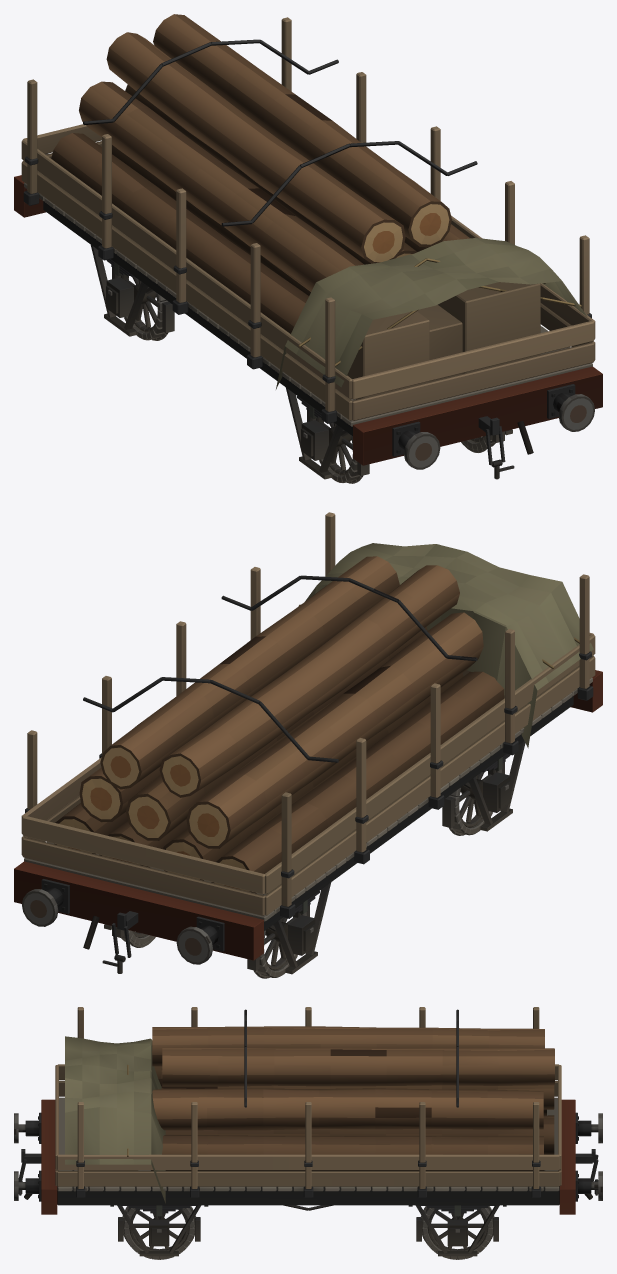
File: platforma.glb
3 views of the same model, one above another, from view 1: azimuth 30°, elevation 25°; view 2: azimuth 150°, elevation 25°; view 3: azimuth 270°, elevation 25° (orthographic). The views are drawn at different scales.
Visible parts, largest first — view 1: log-load-001, plank-deck-001, cloth-tarp-001, dark-buffers-002, dark-stakes-004, plank-crates-002, dark-gear-007, dark-chain-005, dark-frame-001, dark-wheel-011, dark-wheel-009, dark-buffers-003; view 2: log-load-001, plank-deck-001, cloth-tarp-001, dark-buffers-003, dark-stakes-004, dark-gear-007, dark-chain-005, dark-frame-001, dark-wheel-009, dark-wheel-011, dark-buffers-002; view 3: log-load-001, plank-deck-001, cloth-tarp-001, dark-frame-001, dark-stakes-004, dark-gear-007, dark-buffers-003, dark-buffers-002, dark-wheel-008, dark-wheel-010, dark-chain-005.
Boxes of the visible parts, x1,y1,x2,y2 form: log-load-001: (51, 14, 469, 333); plank-deck-001: (21, 124, 595, 426); cloth-tarp-001: (276, 238, 587, 389); dark-buffers-002: (353, 366, 602, 479); dark-stakes-004: (23, 17, 591, 423); plank-crates-002: (347, 282, 540, 399); dark-gear-007: (90, 245, 512, 479); dark-chain-005: (83, 39, 477, 226); dark-frame-001: (43, 201, 352, 436); dark-wheel-011: (115, 274, 167, 340); dark-wheel-009: (310, 417, 363, 483); dark-buffers-003: (14, 153, 48, 217); log-load-001: (54, 556, 504, 893); plank-deck-001: (21, 633, 595, 921); cloth-tarp-001: (305, 543, 593, 748); dark-buffers-003: (14, 861, 263, 973); dark-stakes-004: (25, 512, 593, 918); dark-gear-007: (104, 741, 525, 974); dark-chain-005: (83, 575, 477, 762); dark-frame-001: (264, 696, 573, 930); dark-wheel-009: (449, 769, 501, 835); dark-wheel-011: (253, 912, 306, 978); dark-buffers-002: (570, 670, 602, 712); log-load-001: (151, 1026, 554, 1170); plank-deck-001: (55, 1064, 561, 1191); cloth-tarp-001: (65, 1036, 165, 1203); dark-frame-001: (57, 1170, 559, 1205); dark-stakes-004: (76, 1007, 540, 1197); dark-gear-007: (110, 1205, 506, 1256); dark-buffers-003: (559, 1099, 602, 1214); dark-buffers-002: (14, 1099, 57, 1214); dark-wheel-008: (122, 1206, 195, 1259); dark-wheel-010: (421, 1206, 494, 1259); dark-chain-005: (244, 1009, 458, 1107).
Bounding box in the file's own units: 3 × 3.01 × 7.5.
